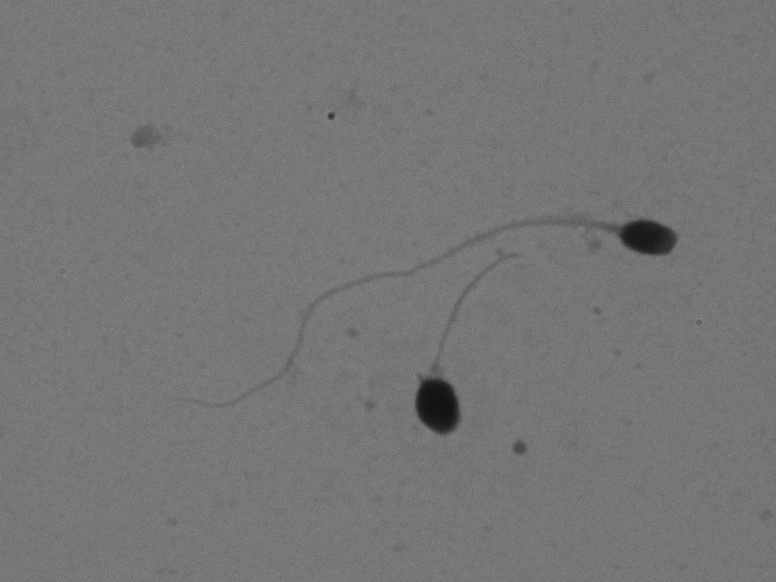Abnormal: (376, 241, 560, 456)
Normal: (148, 193, 715, 459)
